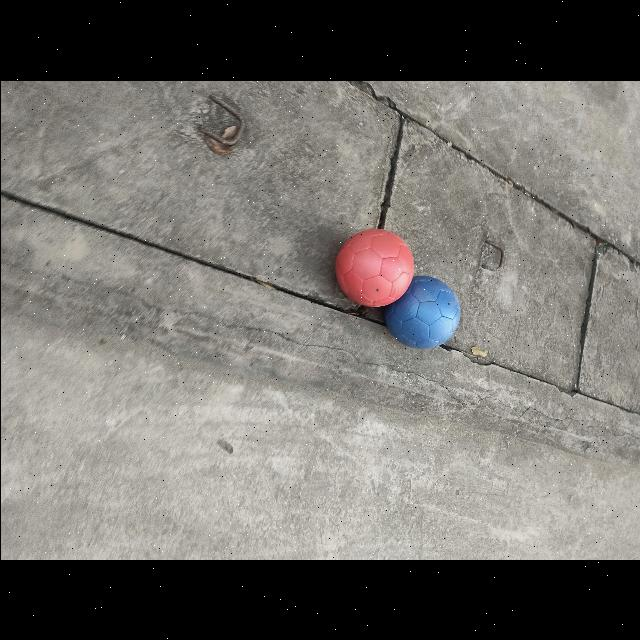B: (384, 276, 460, 348)
R: (335, 228, 413, 306)
